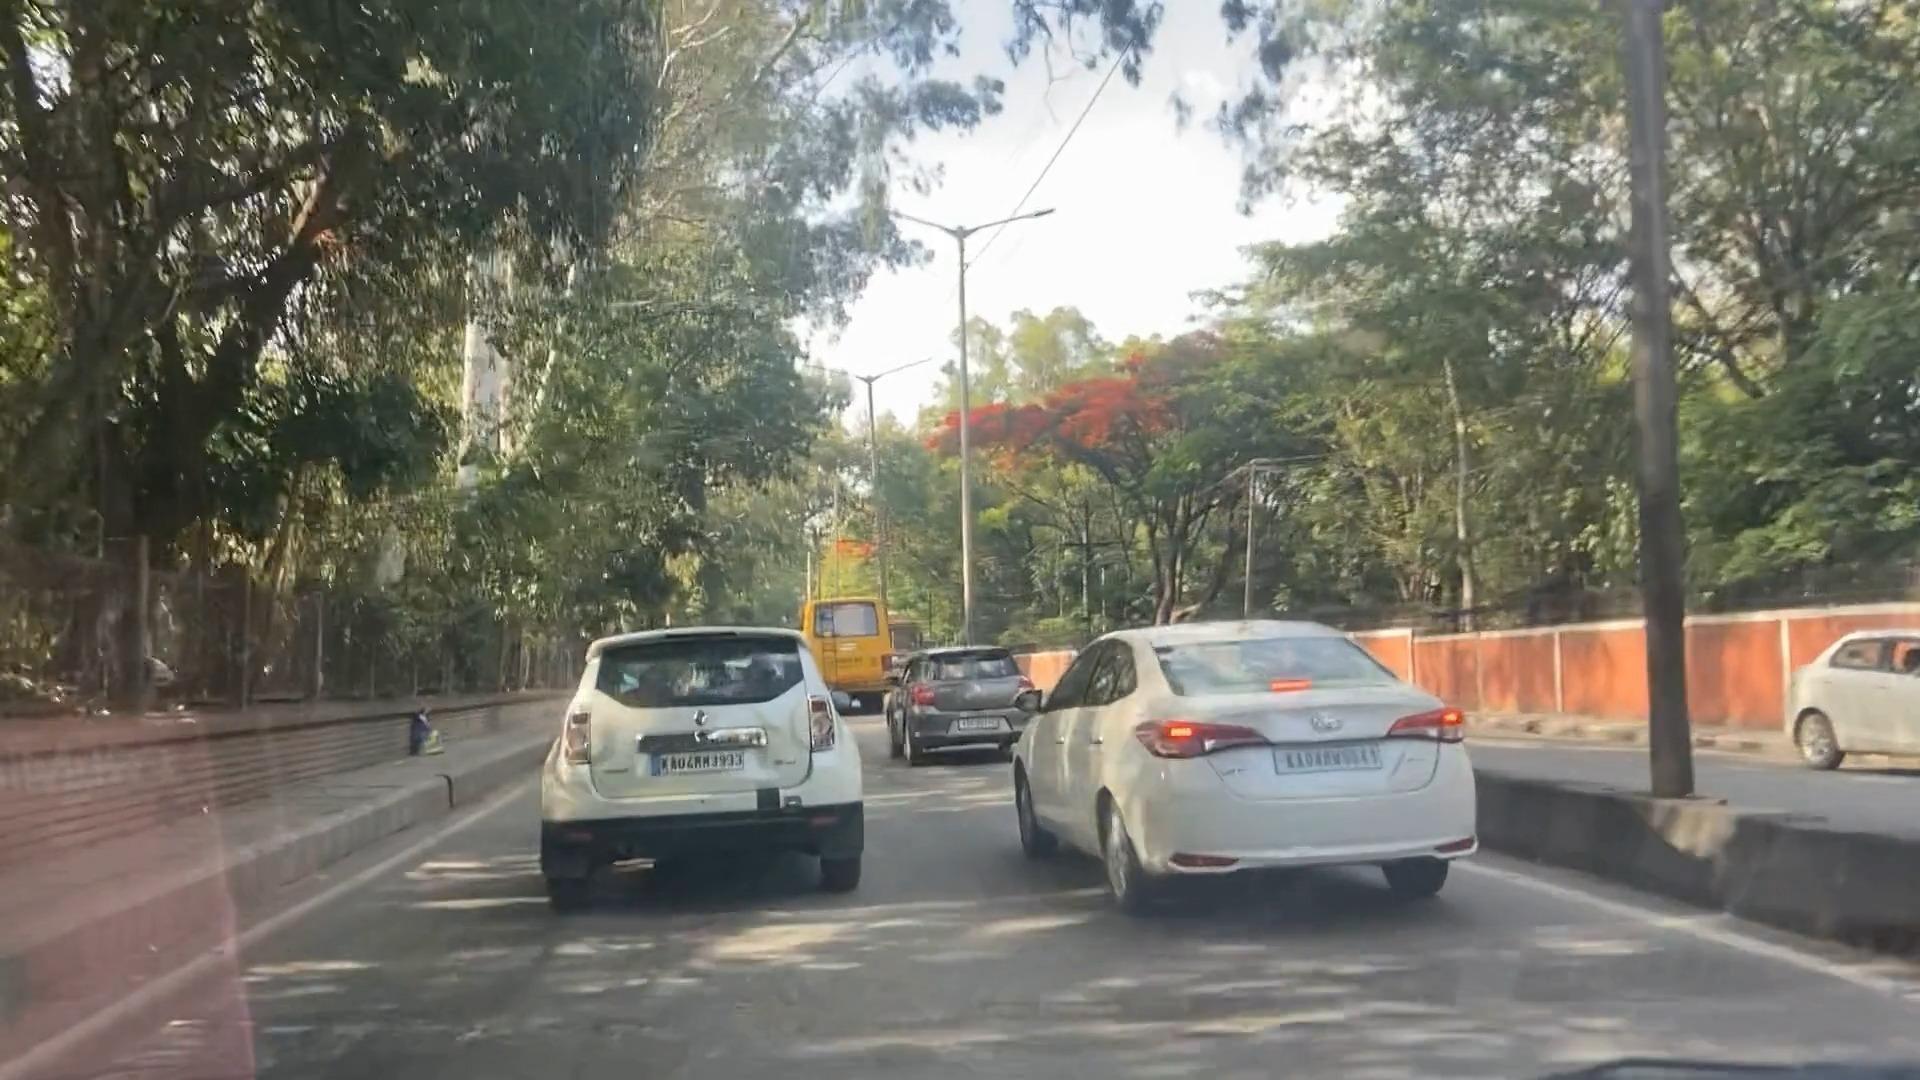LMV: (1018, 628, 1465, 897), (546, 632, 864, 876), (893, 649, 1030, 742)
RoadDamages: (208, 1000, 683, 1080)
